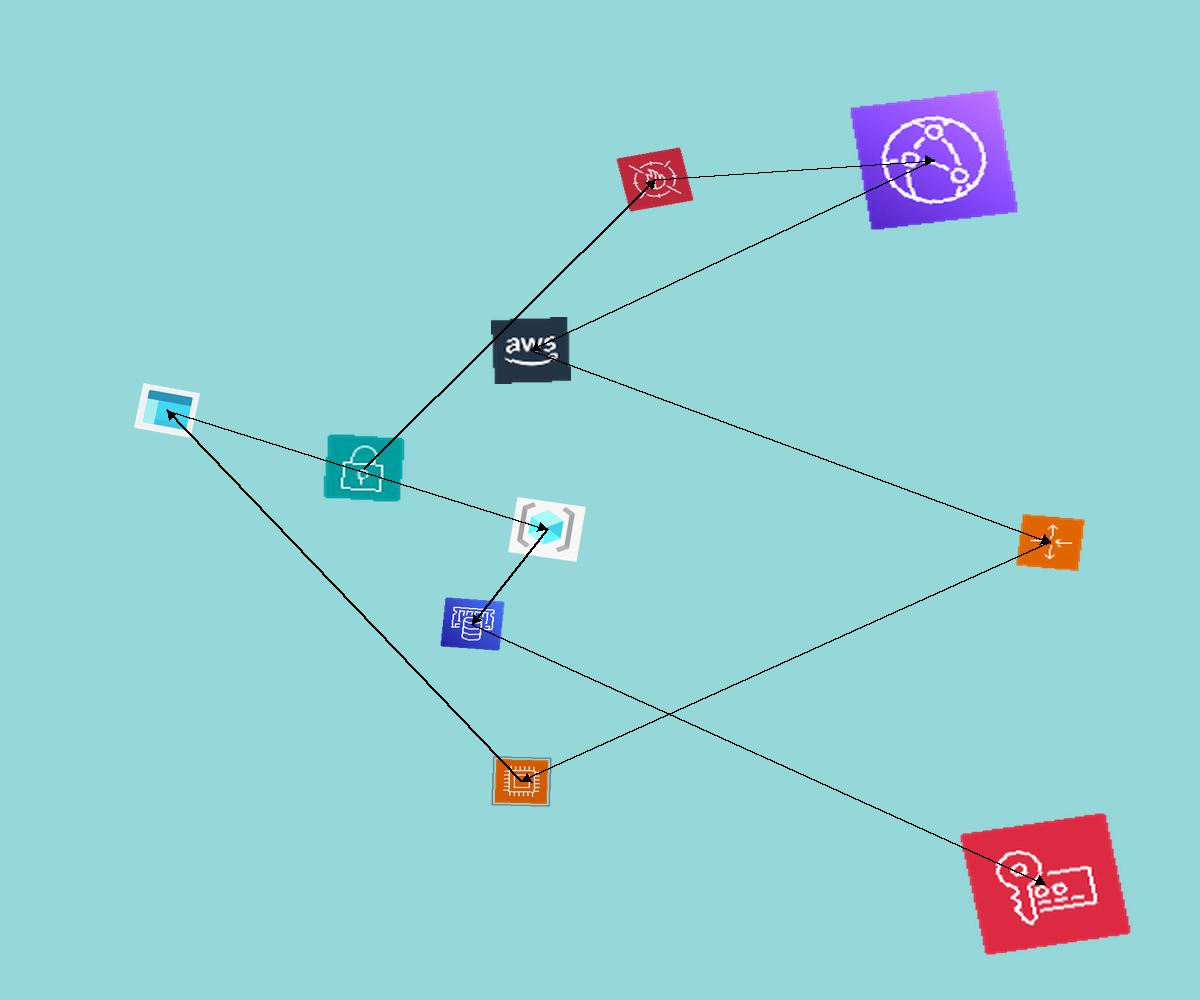AWS-Category_Compute: (491, 756, 552, 807)
AWS-Cloud-logo: (491, 317, 571, 384)
AWS-CloudFront: (849, 89, 1019, 231)
AWS-ElastiCache: (440, 597, 505, 651)
AWS-Key-Management-Service: (959, 812, 1132, 956)
AWS-Private-subnet: (322, 433, 406, 503)
AWS-Scaling-group: (1015, 513, 1086, 572)
AWS-WAF: (616, 147, 694, 212)
Azure_management-portal: (134, 383, 200, 438)
Azure_resource_group: (508, 497, 586, 562)
